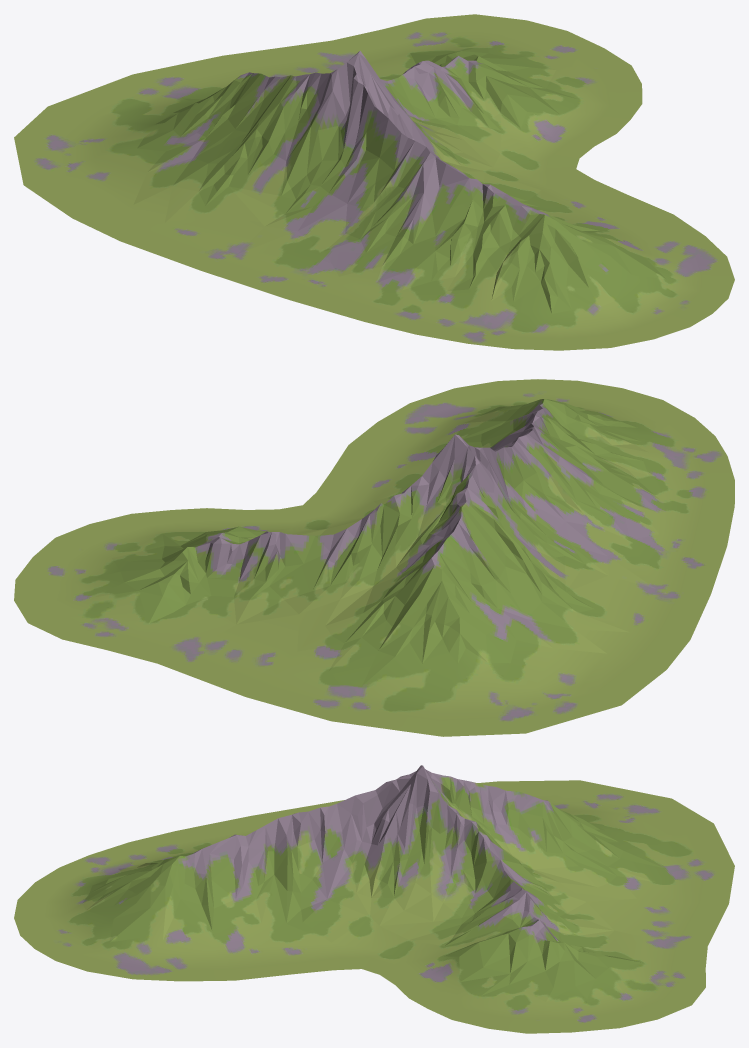
Rendered from build_mountain_C 1.FBX.
3 views of the same model, one above another, from view 1: azimuth 30°, elevation 25°; view 2: azimuth 150°, elevation 25°; view 3: azimuth 270°, elevation 25° (orthographic). The views are drawn at different scales.
Visible parts, largest first — view 1: mountain_A_grass_LOD0_0, mountain_A_grass_edge_LOD0_0; view 2: mountain_A_grass_LOD0_0, mountain_A_grass_edge_LOD0_0; view 3: mountain_A_grass_LOD0_0, mountain_A_grass_edge_LOD0_0.
Part boxes in pixels (<box>): mountain_A_grass_LOD0_0: <box>52,29,701,338</box>; mountain_A_grass_edge_LOD0_0: <box>14,14,734,350</box>; mountain_A_grass_LOD0_0: <box>50,393,704,720</box>; mountain_A_grass_edge_LOD0_0: <box>14,379,734,736</box>; mountain_A_grass_LOD0_0: <box>42,765,705,1019</box>; mountain_A_grass_edge_LOD0_0: <box>14,780,734,1033</box>.
Size of the model in its own units: 44.09 by 10.05 by 53.02.
